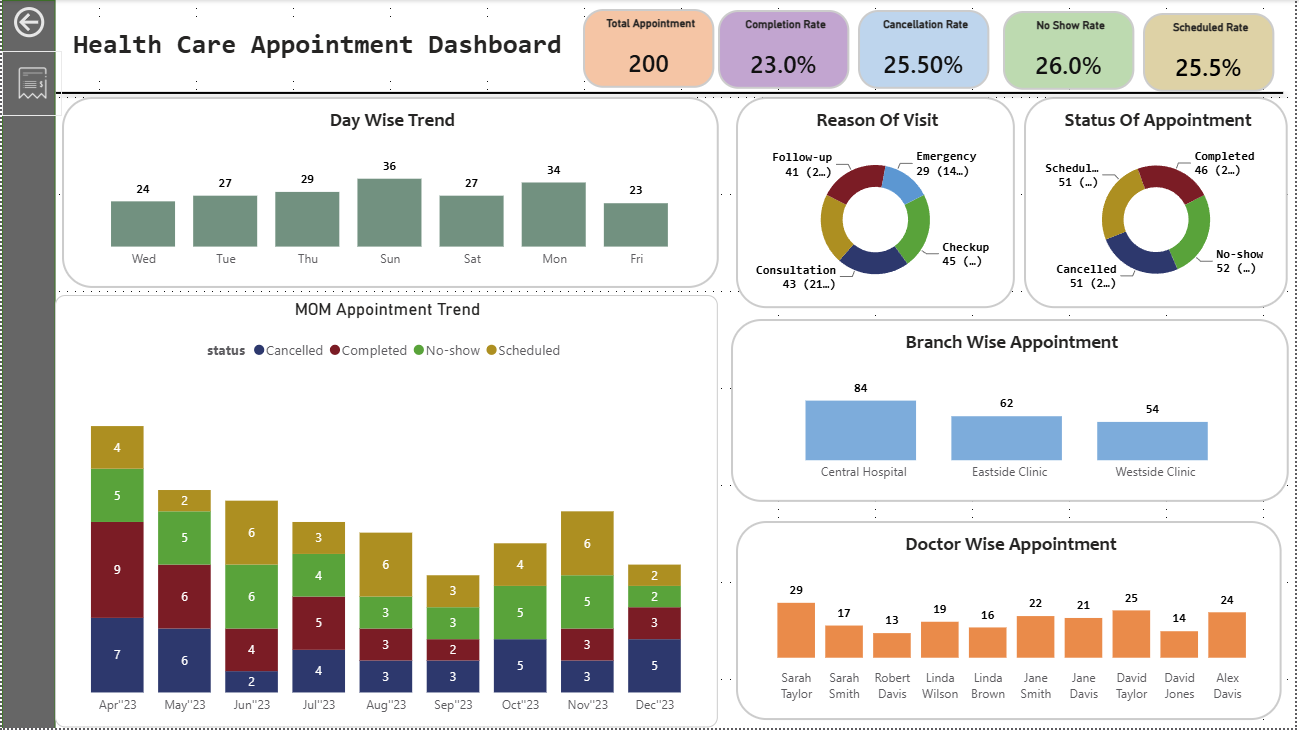

The page's visual inventory and layout, read from the dashboard file:
{"tool":"powerbi","page":{"name":"Appointment","canvas":[1280,720],"ordinal":1},"visuals":[{"type":"cardVisual","title":"Total Appointment","fields":{"Data":["Measure Table.Total Appointment"]},"box":[575.4,9.3,130.1,78.2],"z":0},{"type":"cardVisual","title":"Completion Rate","fields":{"Data":["Measure Table.Completed Appointment %"]},"box":[708.7,10.3,130,78],"z":1000},{"type":"shape","box":[0,0,52.9,850],"z":2000},{"type":"donutChart","title":"Reason Of Visit","fields":{"Category":["appointments.reason_for_visit"],"Y":["CountNonNull(appointments.appointment_id)"]},"box":[726.3,96.1,275.8,208.7],"z":3000},{"type":"columnChart","title":"MOM Appointment Trend","fields":{"Series":["appointments.status"],"Category":["appointments.Month"],"Y":["CountNonNull(appointments.appointment_id)"]},"box":[52.7,292.4,656,427.7],"z":4000},{"type":"donutChart","title":"Status Of Appointment","fields":{"Category":["appointments.status"],"Y":["CountNonNull(appointments.appointment_id)"]},"box":[1011.4,96.1,261.4,208.7],"z":5000},{"type":"shape","box":[41.8,80.1,1238.2,16.5],"z":6000},{"type":"cardVisual","title":"Cancellation Rate","fields":{"Data":["Measure Table.Cancellation Appointment %"]},"box":[847.1,10.3,130,78],"z":7000},{"type":"cardVisual","title":"No Show Rate","fields":{"Data":["Measure Table.No Show Appointment %"]},"box":[990.7,11.4,130,78],"z":8000},{"type":"cardVisual","title":"Scheduled Rate","fields":{"Data":["Measure Table.Scheduled %"]},"box":[1129.2,12.4,130,78],"z":9000},{"type":"clusteredColumnChart","title":"Day Wise Trend","fields":{"Category":["appointments.Day"],"Y":["CountNonNull(appointments.appointment_id)"]},"box":[59.3,96.3,649.8,189.1],"z":10000},{"type":"clusteredColumnChart","title":"Branch Wise Appointment","fields":{"Category":["appointments.Brach"],"Y":["CountNonNull(appointments.appointment_id)"]},"box":[721.1,316.1,551.7,180.8],"z":11000},{"type":"columnChart","title":"Doctor Wise Appointment","fields":{"Category":["appointments.Doctor"],"Y":["CountNonNull(appointments.appointment_id)"]},"box":[726.3,515.5,540.3,197.3],"z":12000},{"type":"actionButton","box":[6.8,1.9,52.5,39.9],"z":13000},{"type":"textbox","box":[59.3,22.4,505.8,56.4],"z":14000},{"type":"actionButton","box":[0,50.6,59.3,64.2],"z":15000}]}

Visuals, with their boxes on the page's 1280x720 design canvas (x1, y1, x2, y2). These are canvas units, not pixel positions in the 1299x731 screenshot, which may show the page scaled, cropped or inside an application window:
"Total Appointment" cardVisual: bbox(575, 9, 706, 88)
"Completion Rate" cardVisual: bbox(709, 10, 839, 88)
shape: bbox(0, 0, 53, 850)
"Reason Of Visit" donutChart: bbox(726, 96, 1002, 305)
"MOM Appointment Trend" columnChart: bbox(53, 292, 709, 720)
"Status Of Appointment" donutChart: bbox(1011, 96, 1273, 305)
shape: bbox(42, 80, 1280, 97)
"Cancellation Rate" cardVisual: bbox(847, 10, 977, 88)
"No Show Rate" cardVisual: bbox(991, 11, 1121, 89)
"Scheduled Rate" cardVisual: bbox(1129, 12, 1259, 90)
"Day Wise Trend" clusteredColumnChart: bbox(59, 96, 709, 285)
"Branch Wise Appointment" clusteredColumnChart: bbox(721, 316, 1273, 497)
"Doctor Wise Appointment" columnChart: bbox(726, 516, 1267, 713)
actionButton: bbox(7, 2, 59, 42)
textbox: bbox(59, 22, 565, 79)
actionButton: bbox(0, 51, 59, 115)
